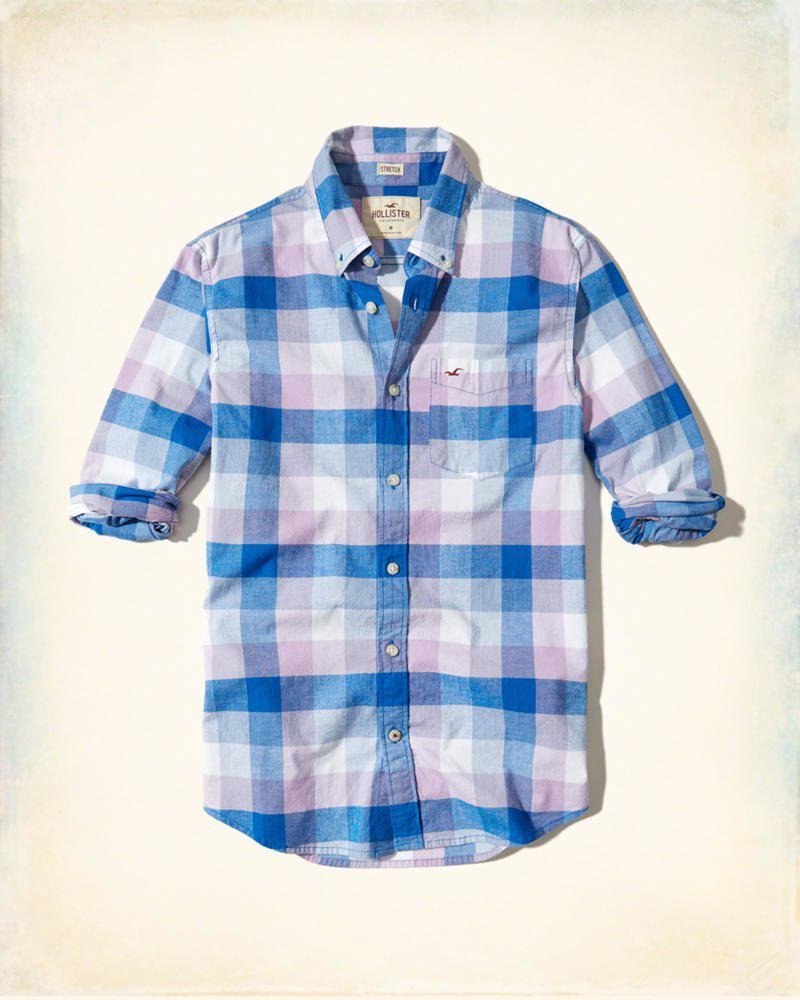teeshirt: (65, 115, 739, 856)
